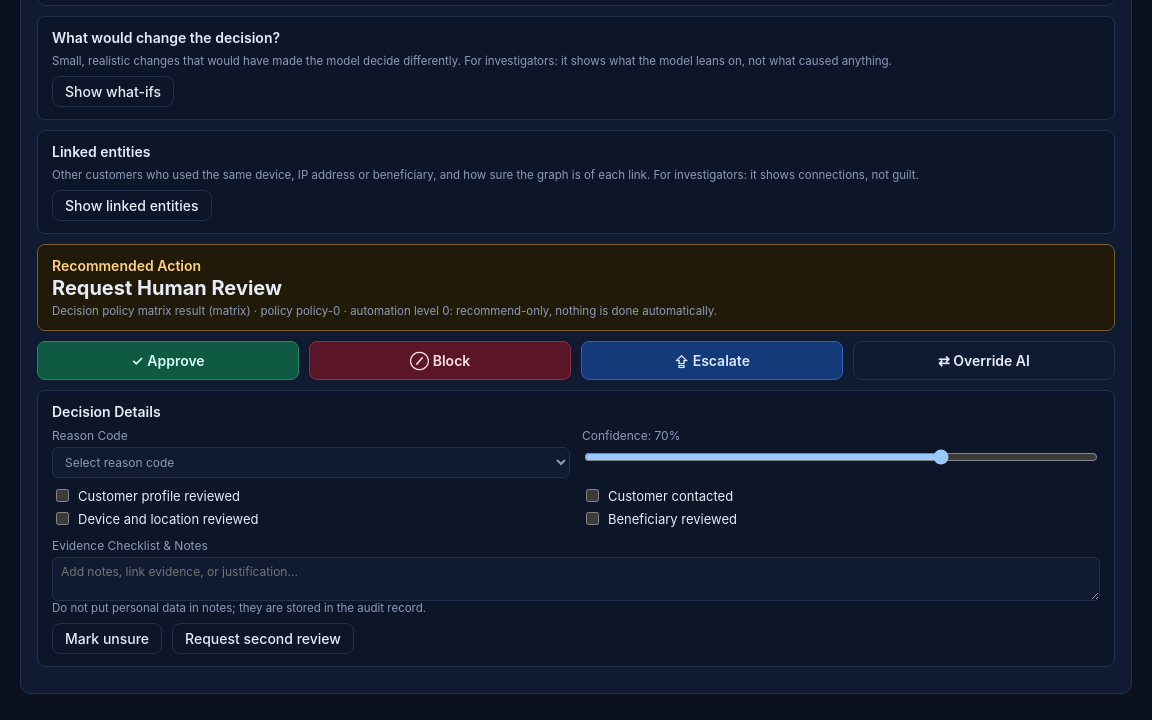
Test: App › shows a server validation error instead of pretending the action worked
(page scrolled)
Click the button "⇪ Escalate" at (712, 360), box [581, 341, 843, 380]
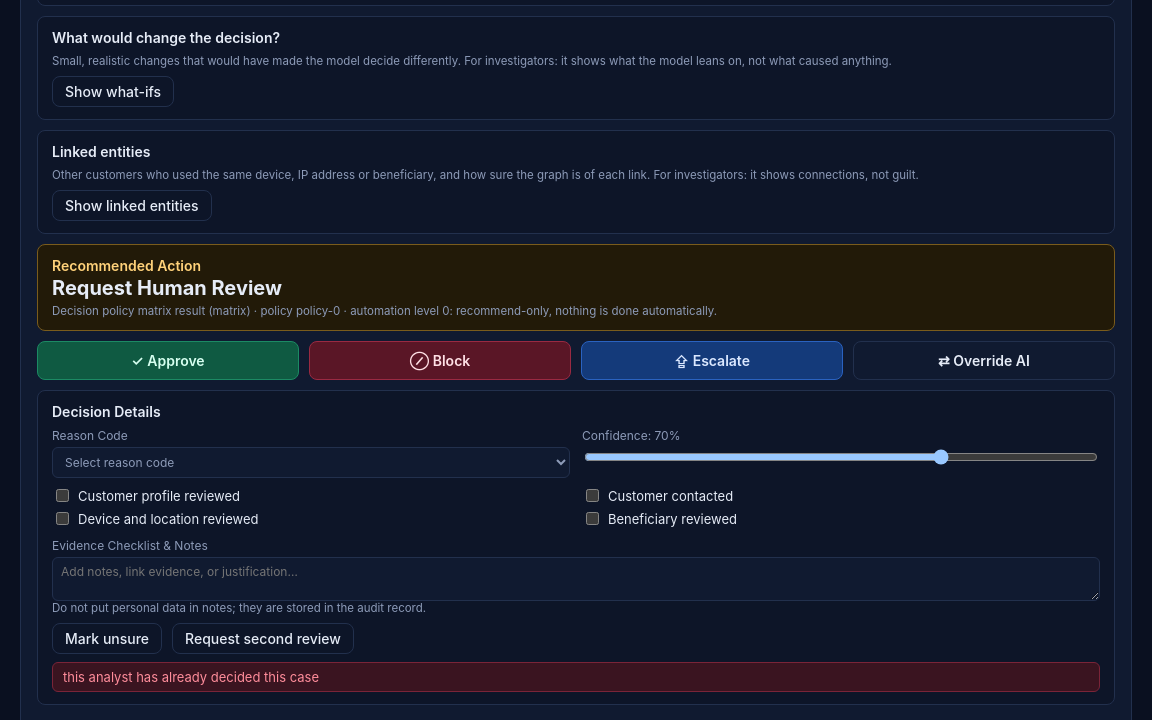
Check: the message reads "this analyst has already decided this case", box [63, 669, 319, 685]
